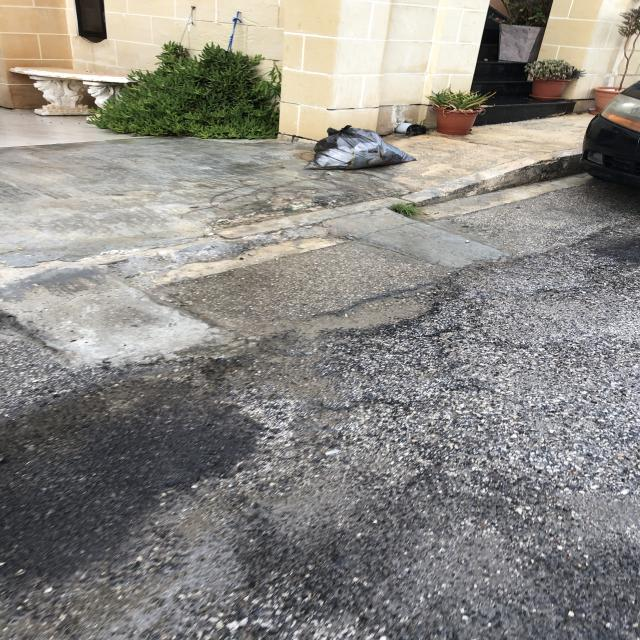Mixed Waste -Black Bag-: (314, 130, 408, 170)
